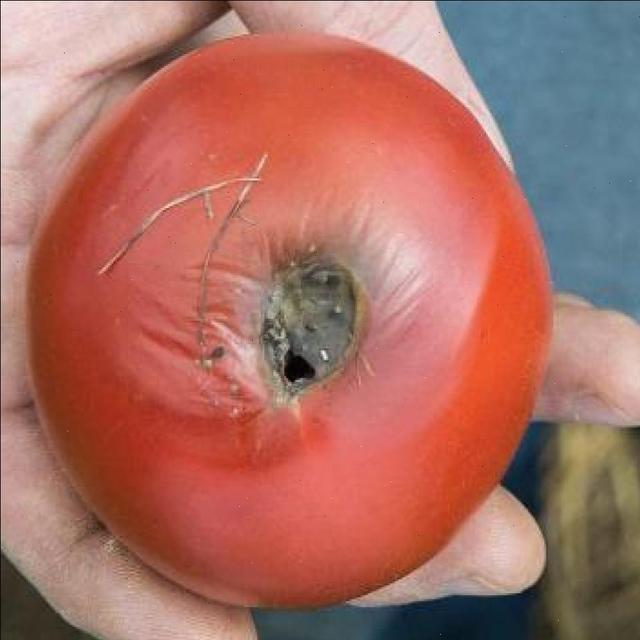Cracking Fruit: (54, 73, 209, 212)
